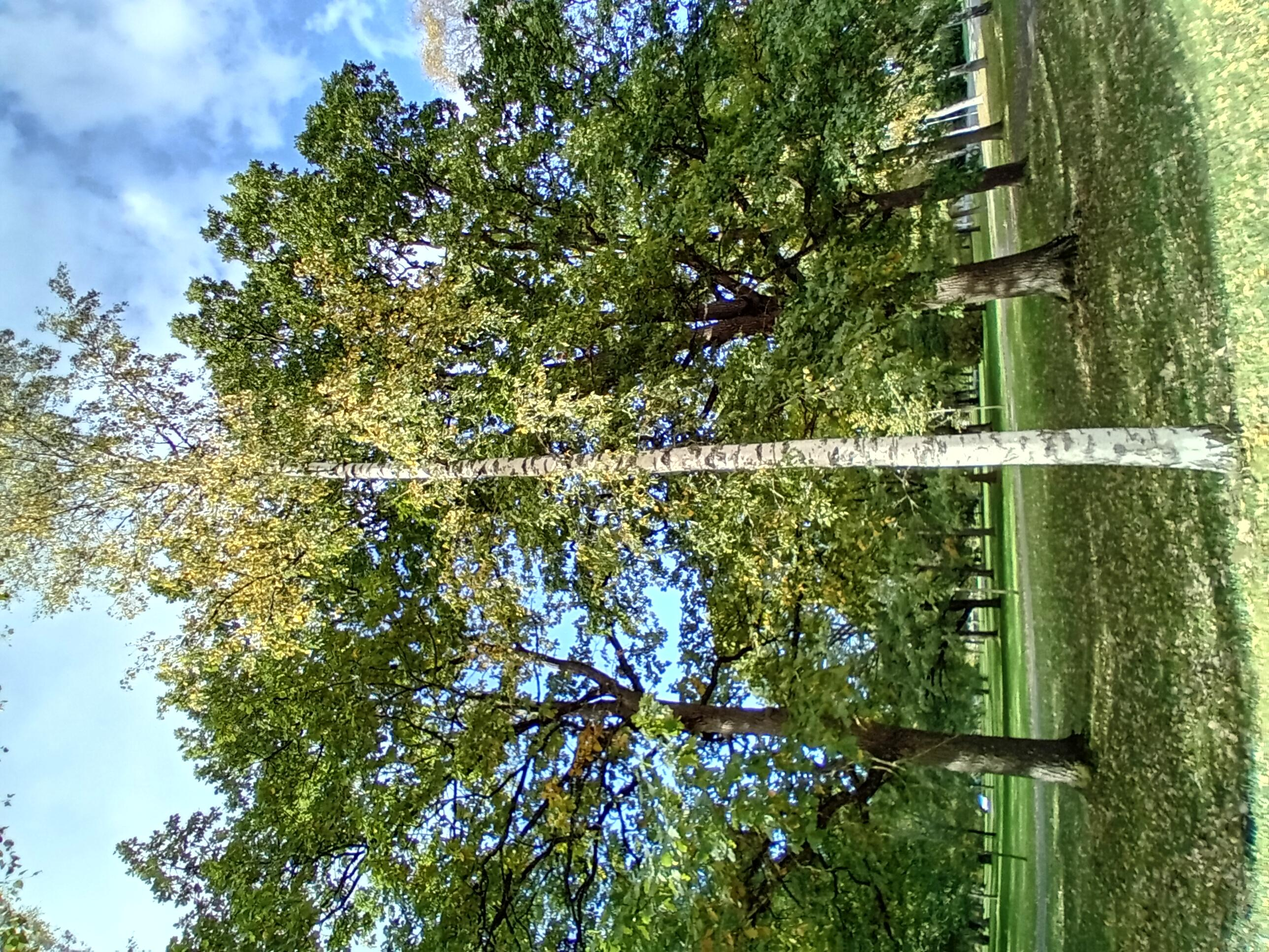Birch: (317, 2, 925, 929)
